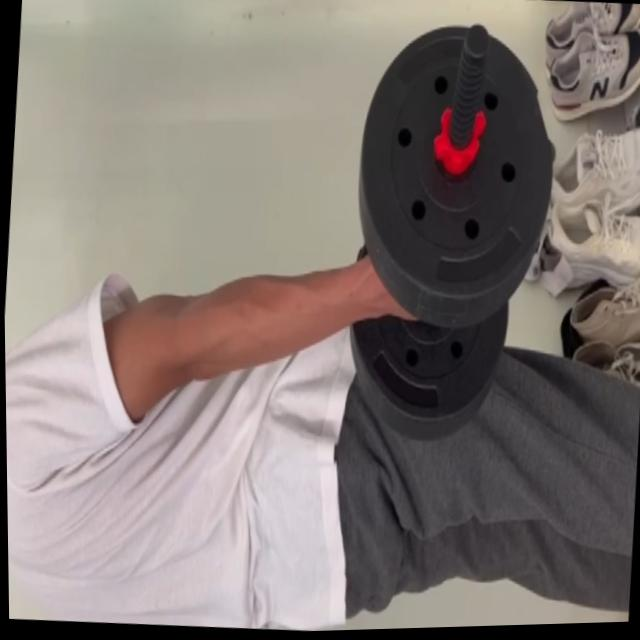dumbbell: (335, 16, 561, 441)
